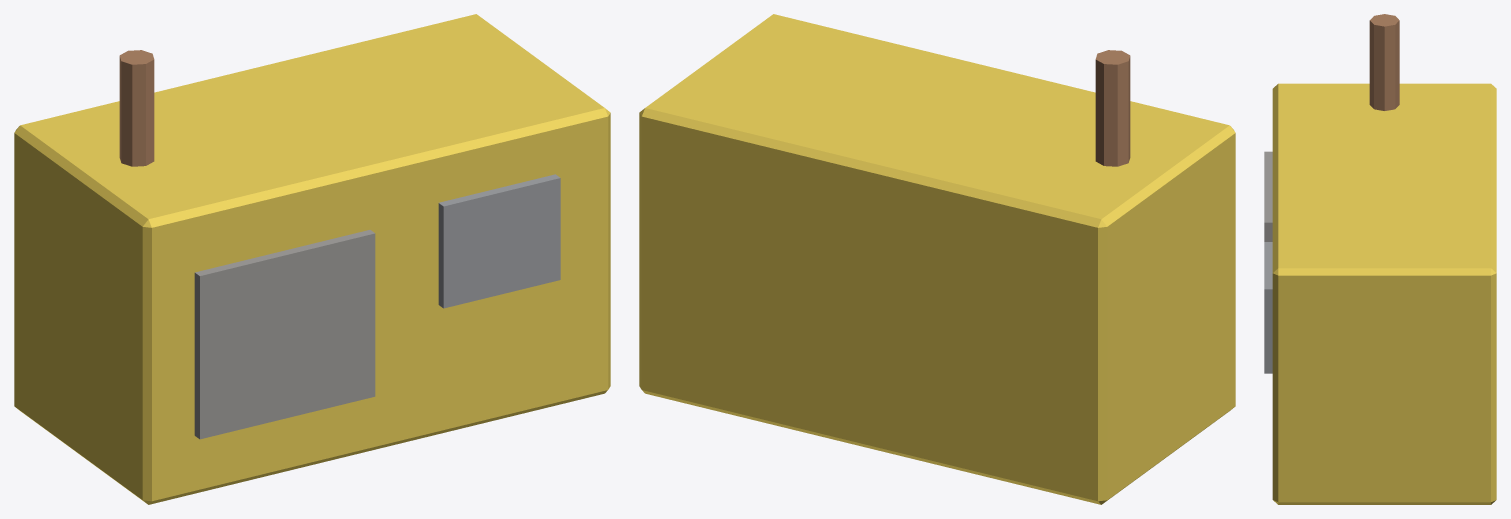
File: generator.glb
3 renders of one model, left to right at view 1: azimuth 30°, elevation 25°; view 2: azimuth 150°, elevation 25°; view 3: azimuth 270°, elevation 25°, orthographic. The views are drawn at different scales.
Visible parts, largest first — view 1: generator; view 2: generator; view 3: generator.
Part boxes in pixels (left/top/right/bottom): generator: left=14, top=14, right=610, bottom=504; generator: left=639, top=14, right=1235, bottom=504; generator: left=1264, top=14, right=1496, bottom=504.
Size of what is drawn, in the model's own units: 2.4 by 1.9 by 1.25.
